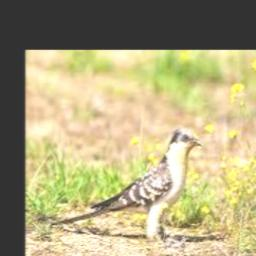Cuckoo: (52, 128, 202, 242)
